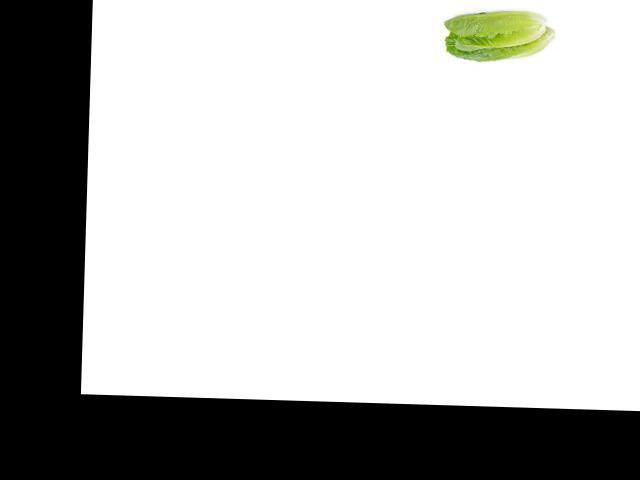lettuce: (441, 1, 555, 63)
